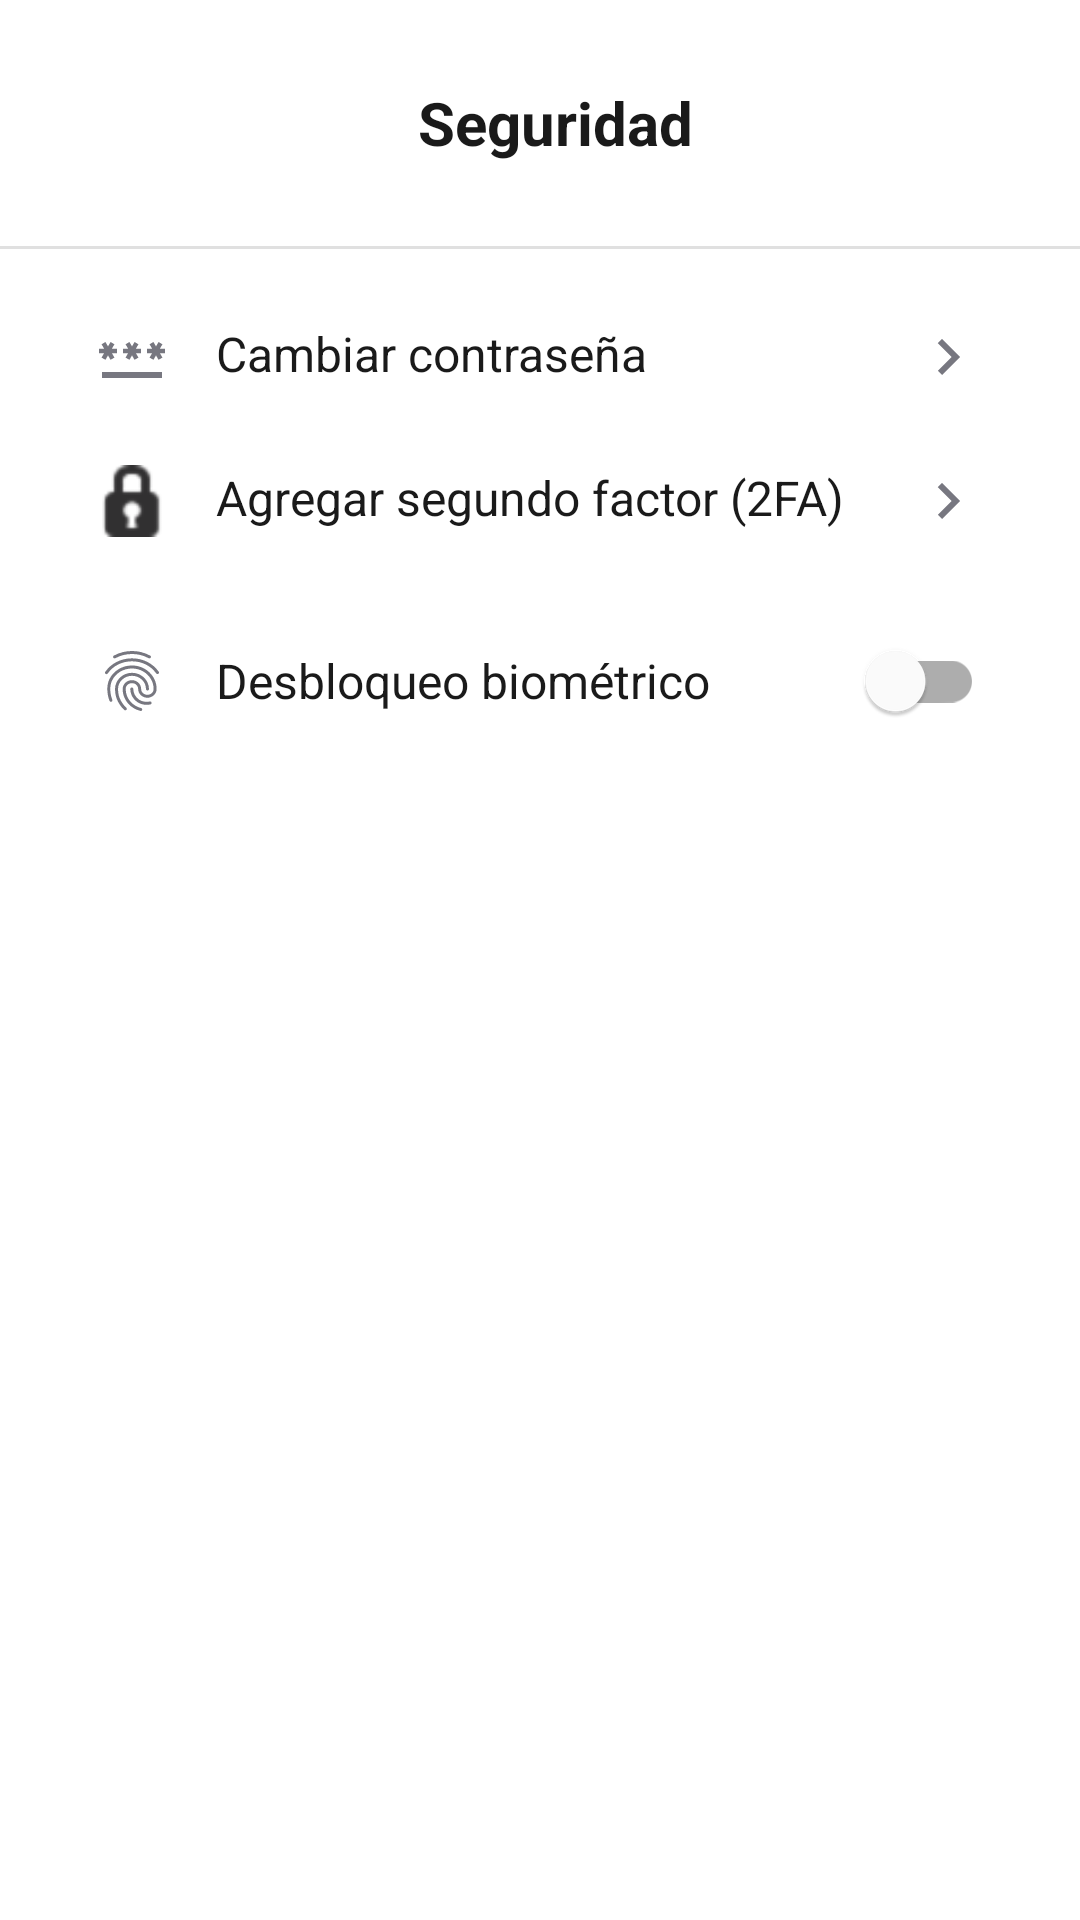

Icons on this 1080px×1920px Android screen, each with the point to tap as (x,y):
fingerprint: (132,681)
password: (132,360)
right arrow: (949,357), (949,501)
secure: (131,501)
